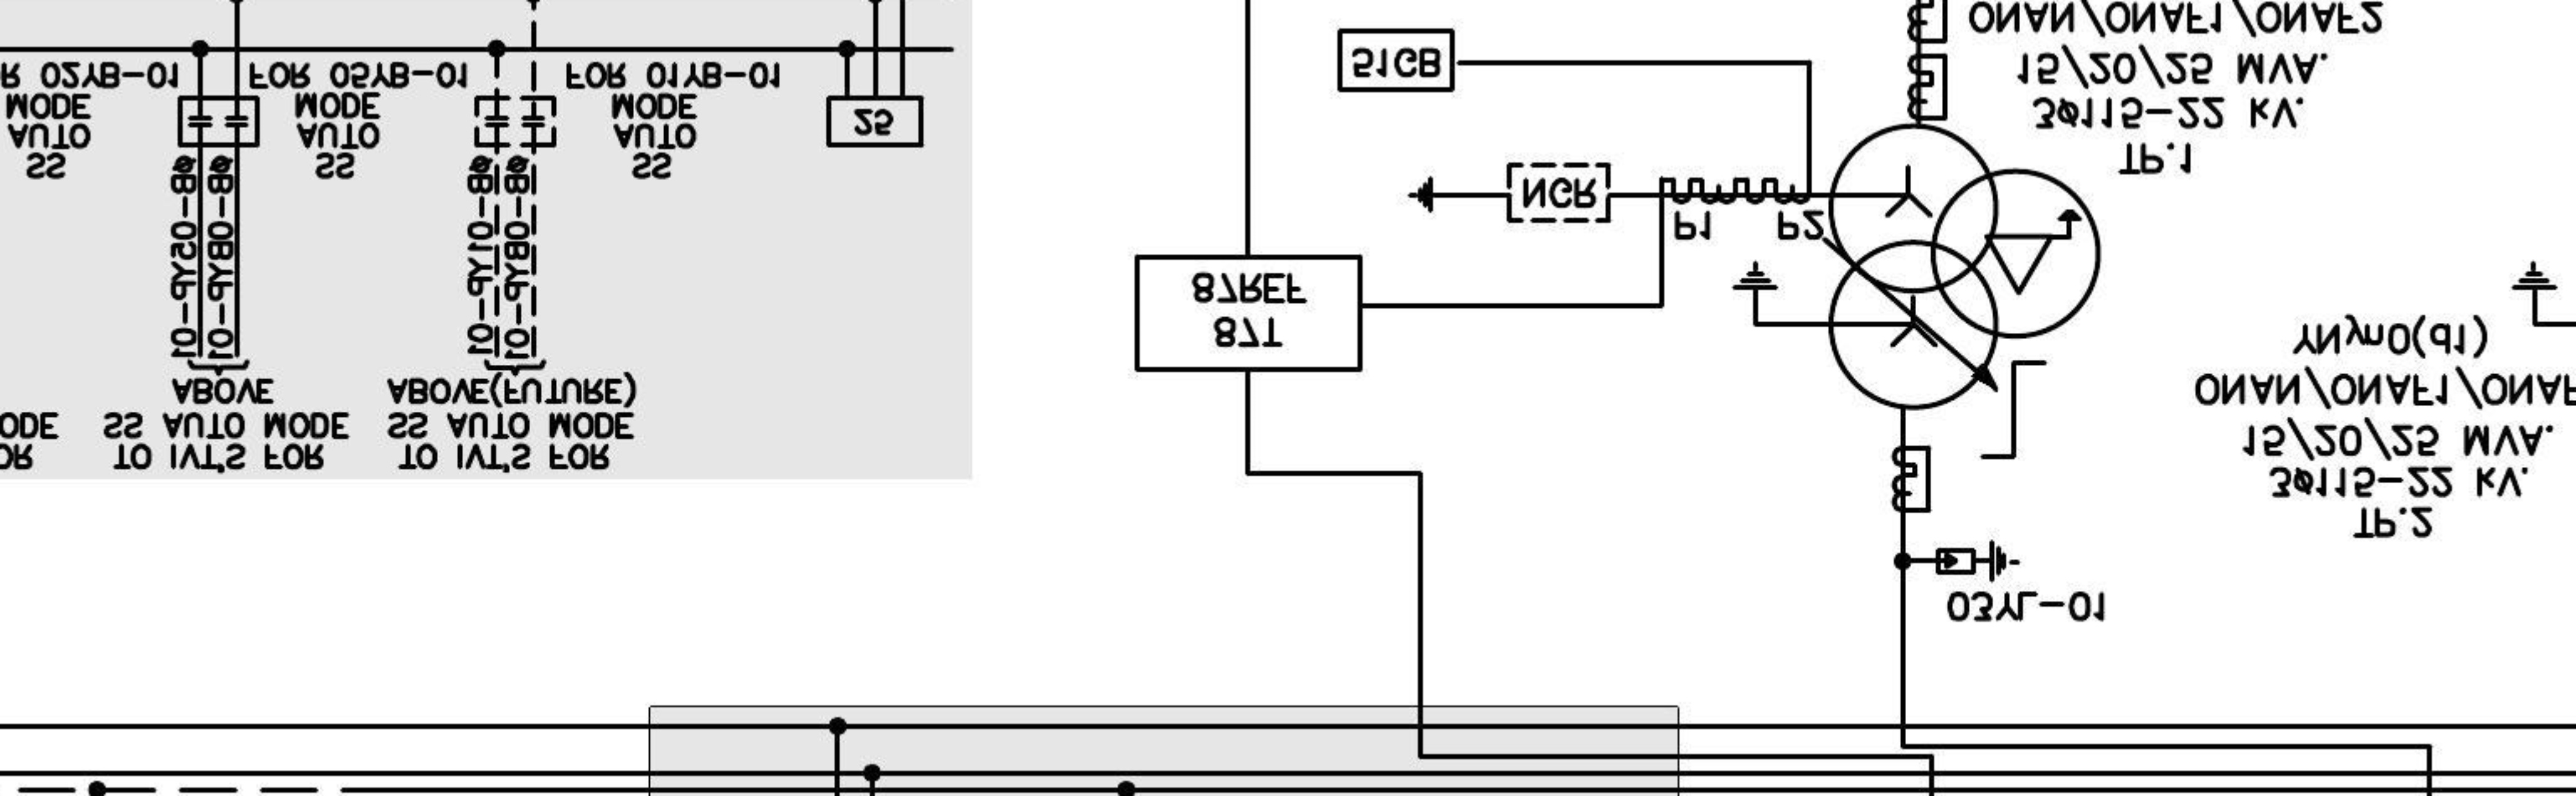11522_tx_ynyn0d1: (1827, 122, 2103, 411)
115_la: (1934, 539, 2021, 584)
NGR_future: (1406, 161, 1612, 224)
